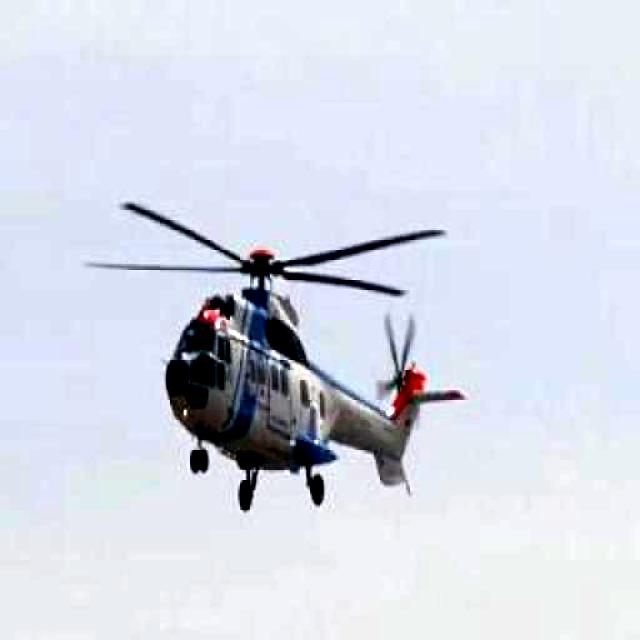drone: (38, 179, 508, 532)
